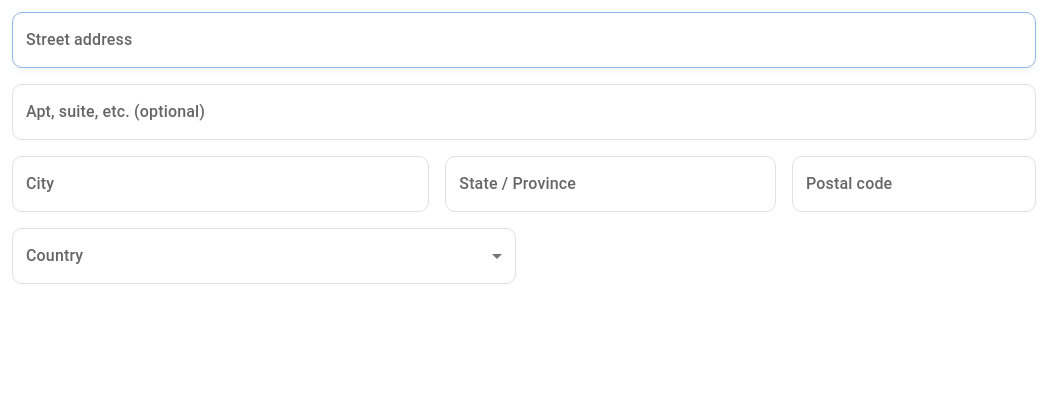
Test: AddressField Control › renders the country Select options
Press the mouse on the dropdown named "Country" at (264, 256), box [12,228,516,284]
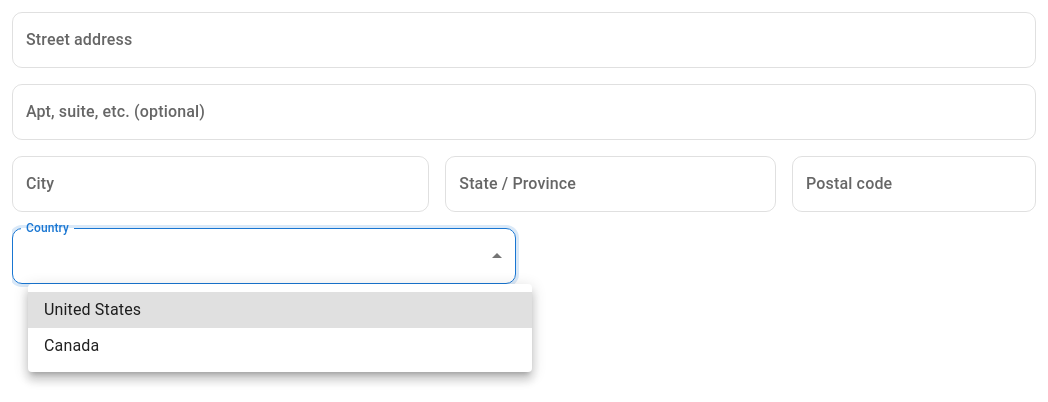
Check: the option "United States" is shown, box [28,292,532,328]
Check: the option "Canada" is shown, box [44,336,99,355]
